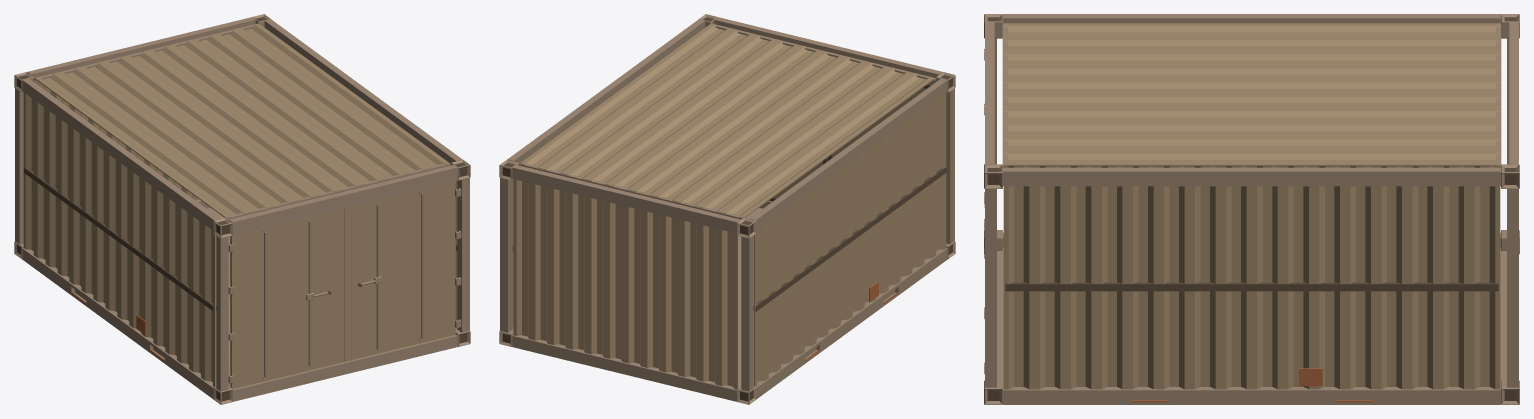
The model's file is cargo_container_intact_sand.glb.
The picture shows the model from 3 angles, left to right: view 1: azimuth 30°, elevation 25°; view 2: azimuth 150°, elevation 25°; view 3: azimuth 270°, elevation 25°; orthographic projection. The views are drawn at different scales.
Visible parts, largest first — view 1: Container_Intact_Body; view 2: Container_Intact_Body; view 3: Container_Intact_Body.
Boxes of the visible parts, <box> form: Container_Intact_Body: <box>14,14,470,404</box>; Container_Intact_Body: <box>499,14,955,404</box>; Container_Intact_Body: <box>984,14,1519,404</box>.
Size of the model in its own units: 3.5 by 2.4 by 5.
